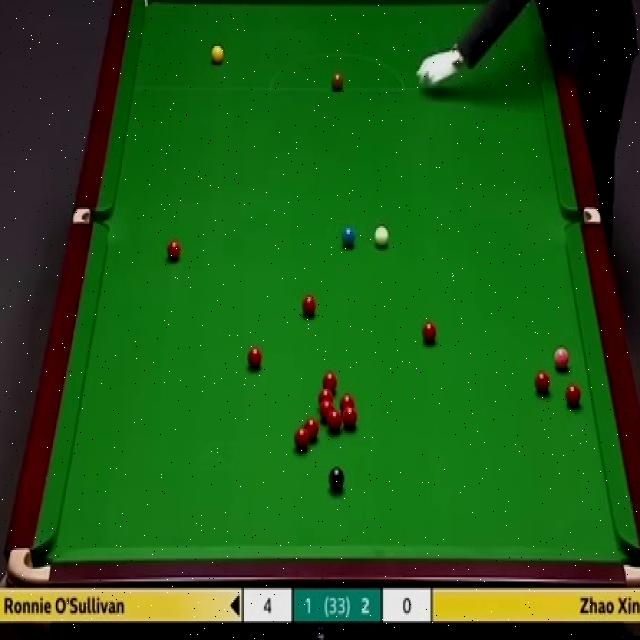black-ball: (328, 465, 345, 495)
blue-ball: (341, 225, 356, 247)
brown-ball: (331, 71, 344, 92)
pink-ball: (554, 345, 570, 372)
red-ball: (246, 345, 264, 373), (304, 419, 322, 445), (293, 427, 310, 453), (536, 370, 553, 396), (565, 384, 583, 408), (342, 406, 358, 432), (422, 320, 438, 346), (301, 295, 317, 318), (167, 239, 181, 264), (328, 409, 342, 432), (321, 371, 338, 389), (319, 401, 334, 421), (318, 387, 333, 404), (340, 396, 354, 410)
white-ball: (375, 225, 390, 249)
yellow-ball: (211, 46, 225, 66)
